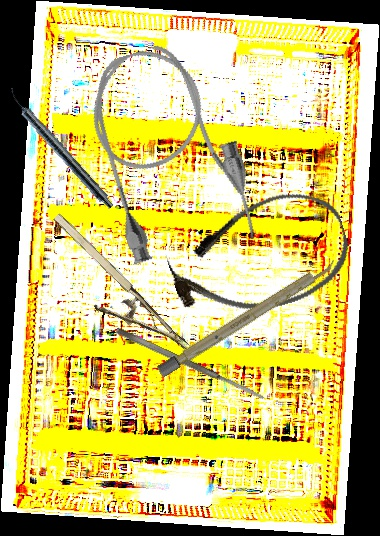Cannula: (72, 31, 267, 276), (158, 179, 360, 334)
Handpiece: (3, 85, 118, 212)
Needle Holder: (31, 209, 193, 379)
Scalpel Handle: (156, 257, 339, 378)
Spatula Surgical: (114, 325, 267, 404)
